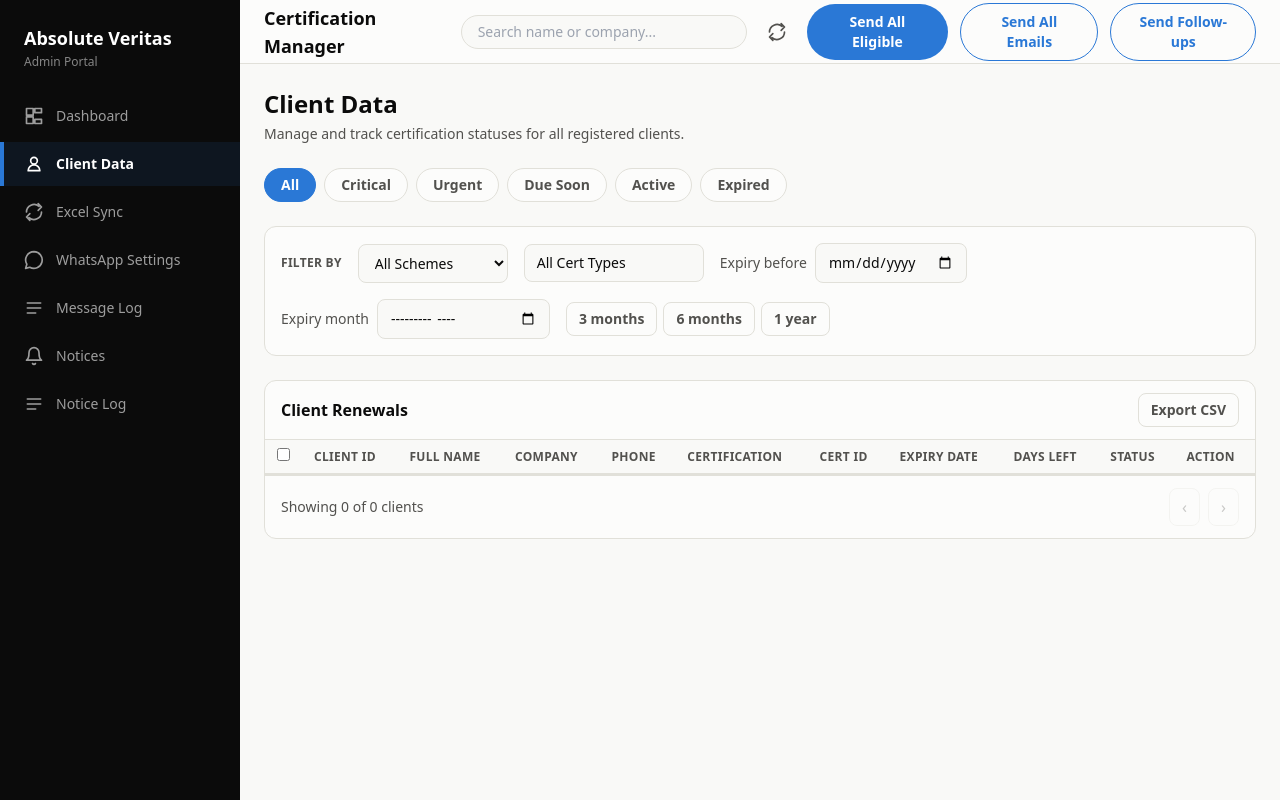
Scenario: App follow-ups › shows an error toast when starting the job fails
Click the button "Send Follow-ups" at (1183, 32), box [1110,2,1256,60]
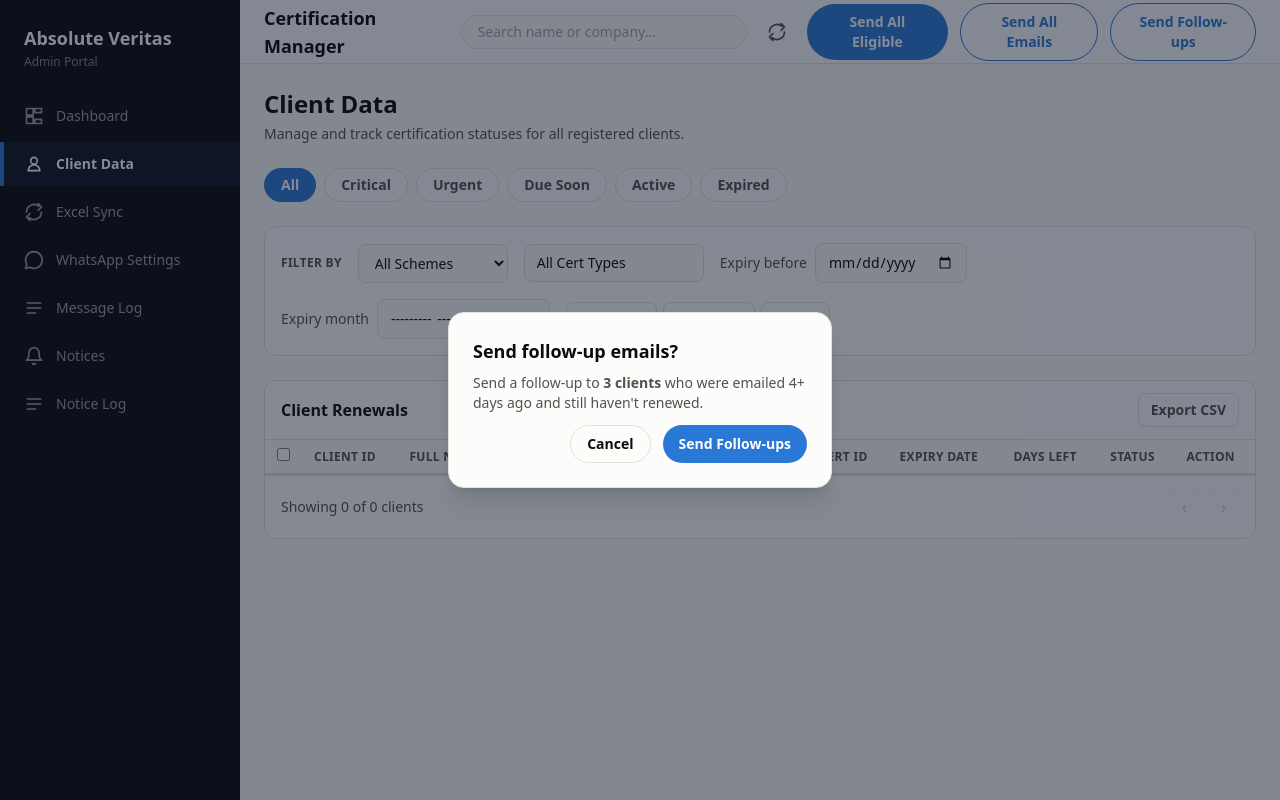
Click the button "Send Follow-ups" at (735, 444), box [662,425,807,463]
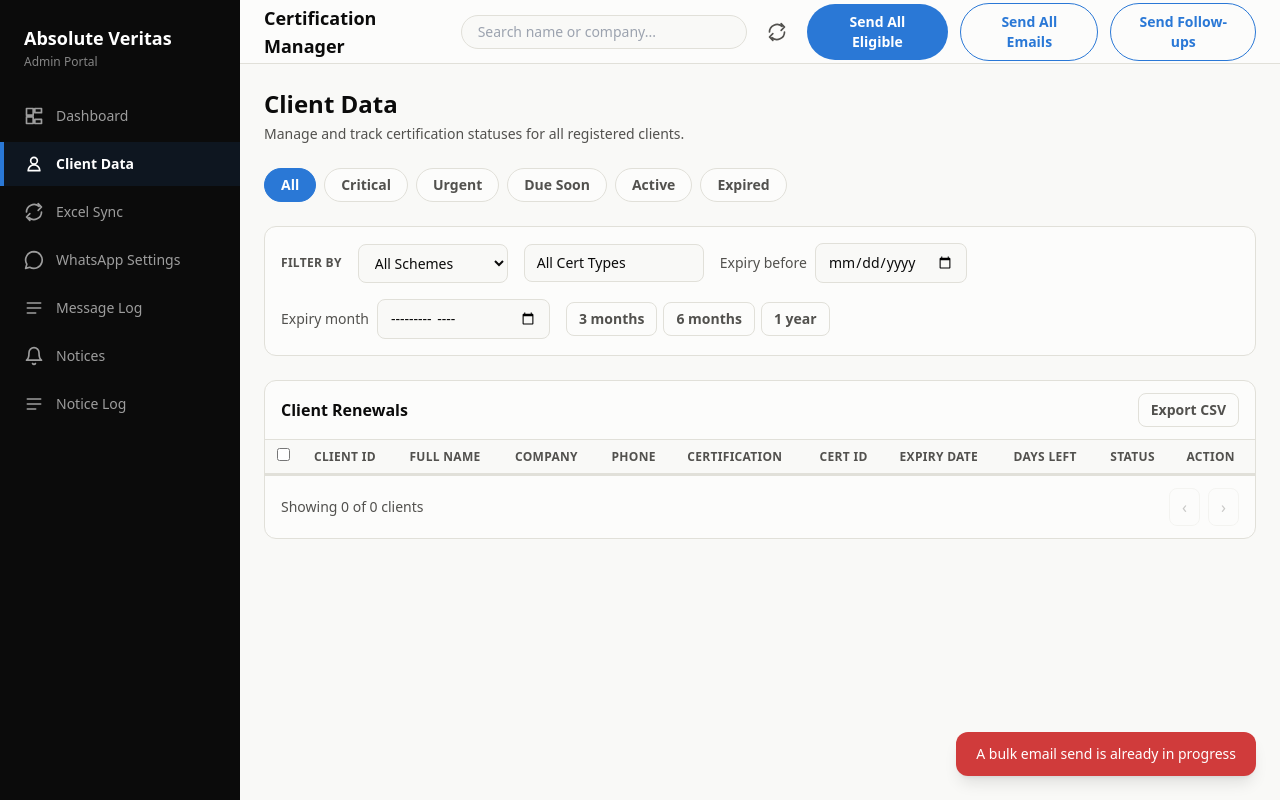
Check: the text "A bulk email send is already in progress" is shown, box [956,732,1256,776]
